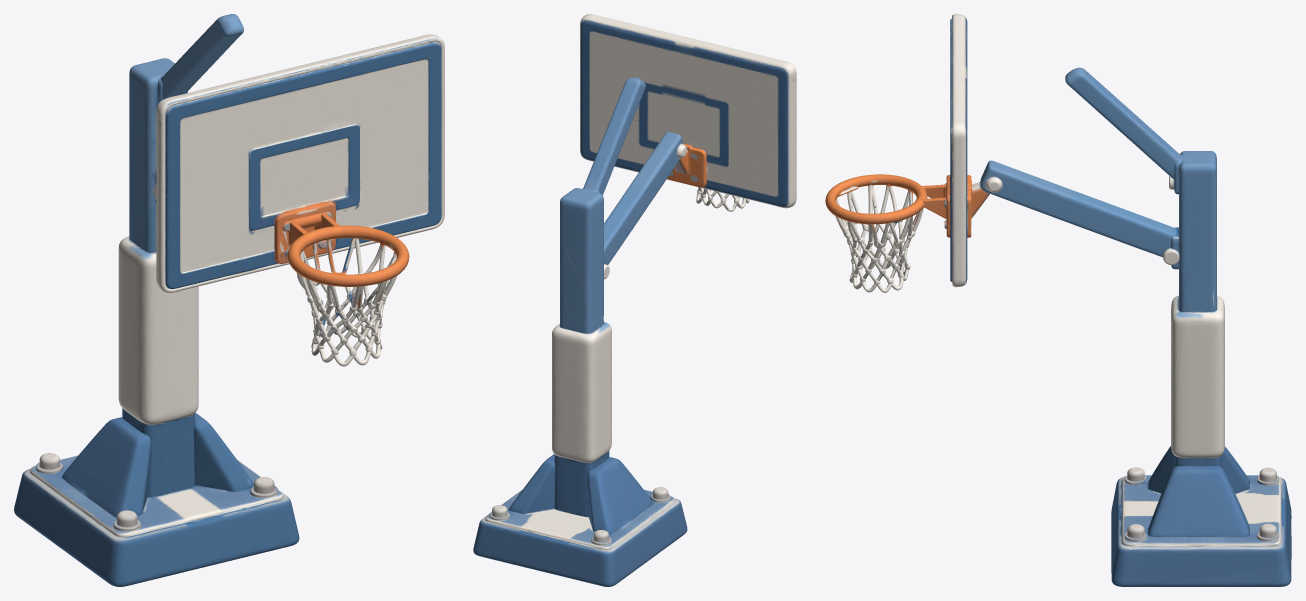
The model's file is Meshy_AI_Pastel_Basketball_Hoo_1017054311_texture.fbx.
The picture shows the model from 3 angles, left to right: view 1: azimuth 30°, elevation 25°; view 2: azimuth 150°, elevation 25°; view 3: azimuth 270°, elevation 25°; orthographic projection. The views are drawn at different scales.
Visible parts, largest first — view 1: Mesh_0; view 2: Mesh_0; view 3: Mesh_0.
Part boxes in pixels (x1=…): Mesh_0: x1=14, y1=14, x2=444, y2=586; Mesh_0: x1=473, y1=14, x2=796, y2=586; Mesh_0: x1=825, y1=14, x2=1291, y2=586.
Bounding box in the file's own units: 99.91 × 190 × 167.
Materials: 1 (1 with a texture image).
